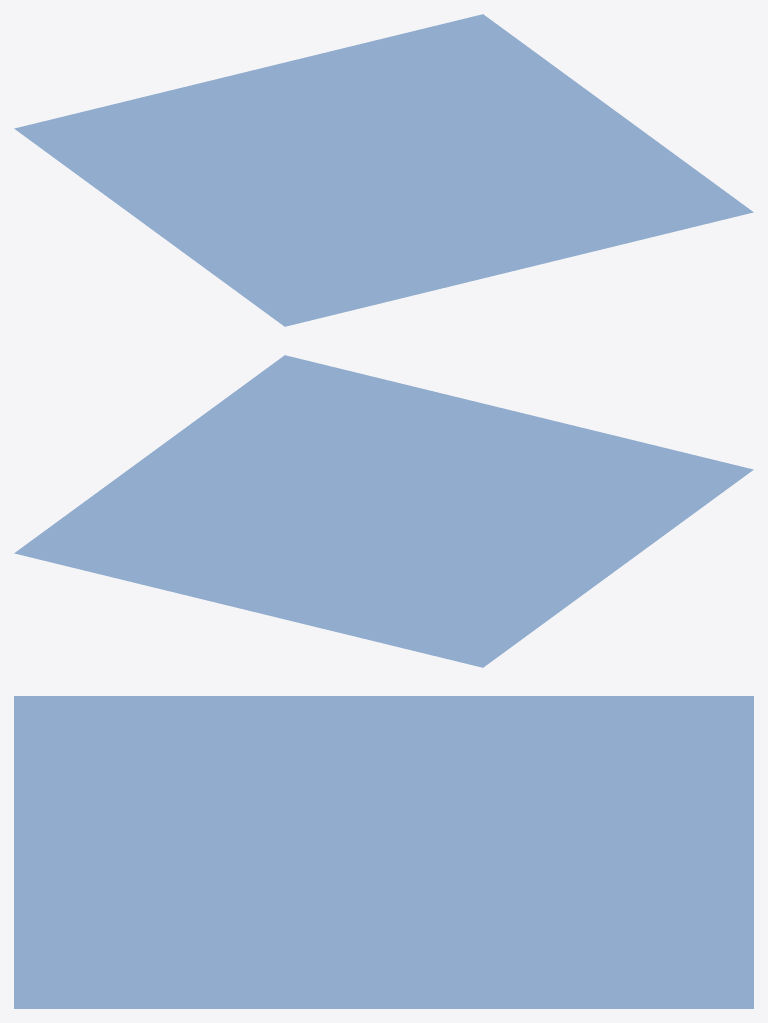
File: 16X16meshplane_2.fbx
3 views of the same model, one above another, from view 1: azimuth 30°, elevation 25°; view 2: azimuth 150°, elevation 25°; view 3: azimuth 270°, elevation 25° (orthographic). The views are drawn at different scales.
Parts seen in each view (by area): view 1: Plane; view 2: Plane; view 3: Plane.
Boxes of the visible parts, <box> form: Plane: <box>14,14,753,326</box>; Plane: <box>14,355,753,667</box>; Plane: <box>14,696,753,1008</box>.
Size of the model in its own units: 3200 by 0.000521 by 3200.
